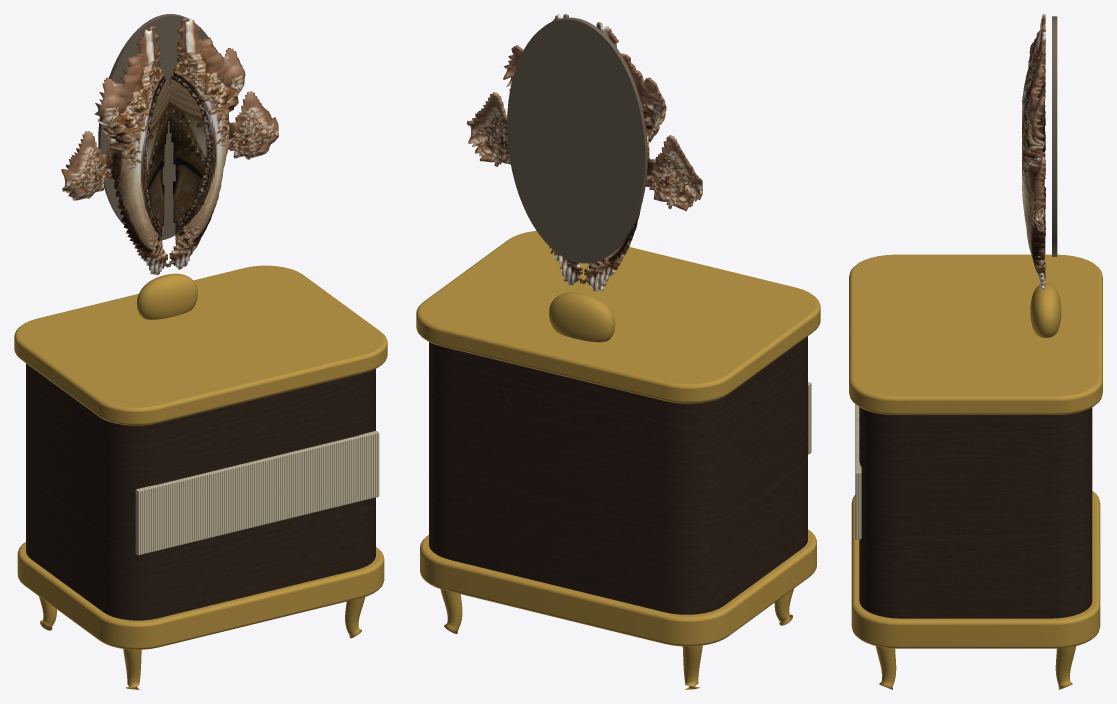
Rendered from empire-royal-bed-set--night.glb.
3 renders of one model, left to right at view 1: azimuth 30°, elevation 25°; view 2: azimuth 150°, elevation 25°; view 3: azimuth 270°, elevation 25°, orthographic. The views are drawn at different scales.
Visible parts, largest first — view 1: body, top, mframe, band, skirt, mglass, mfoot, leg-1-1, leg1-1; view 2: body, top, mglass, skirt, mframe, mfoot, leg-11, leg11; view 3: body, top, skirt, mframe, mglass, mfoot, band, leg11, leg1-1.
Boxes of the visible parts, x1=… form: body: x1=26, y1=363, x2=375, y2=620; top: x1=14, y1=265, x2=387, y2=425; mframe: x1=61, y1=18, x2=278, y2=275; band: x1=135, y1=430, x2=379, y2=555; skirt: x1=17, y1=542, x2=384, y2=649; mglass: x1=98, y1=14, x2=214, y2=240; mfoot: x1=137, y1=273, x2=197, y2=319; leg-1-1: x1=123, y1=649, x2=141, y2=689; leg1-1: x1=345, y1=597, x2=365, y2=638; body: x1=429, y1=336, x2=807, y2=614; top: x1=416, y1=230, x2=820, y2=403; mglass: x1=507, y1=17, x2=647, y2=263; skirt: x1=420, y1=529, x2=816, y2=646; mframe: x1=467, y1=14, x2=702, y2=291; mfoot: x1=549, y1=292, x2=615, y2=342; leg-11: x1=682, y1=645, x2=702, y2=689; leg11: x1=440, y1=589, x2=462, y2=633; body: x1=859, y1=407, x2=1092, y2=618; top: x1=849, y1=254, x2=1102, y2=414; skirt: x1=851, y1=491, x2=1100, y2=648; mframe: x1=1022, y1=14, x2=1045, y2=289; mglass: x1=1052, y1=16, x2=1057, y2=256; mfoot: x1=1030, y1=283, x2=1061, y2=337; band: x1=855, y1=404, x2=861, y2=539; leg11: x1=1055, y1=646, x2=1076, y2=689; leg1-1: x1=875, y1=646, x2=896, y2=689.
Size of the model in its own units: 0.66 by 1.31 by 0.49.
Materials: 5 (3 with a texture image).
